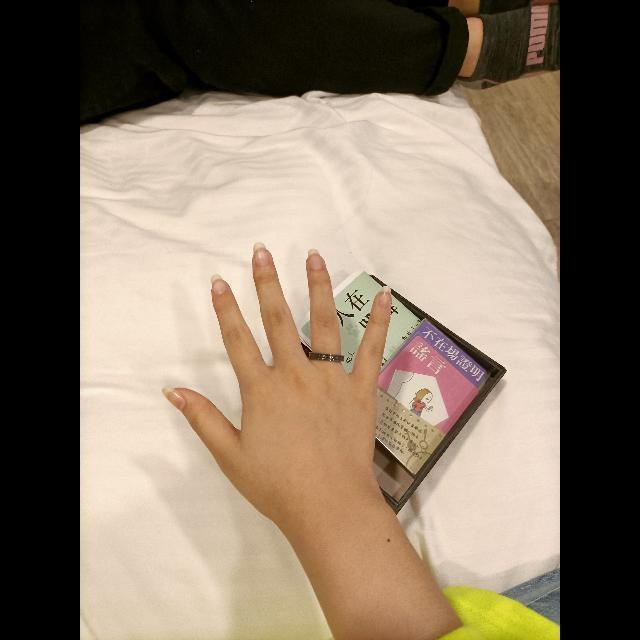bare_hand: (162, 241, 393, 507)
